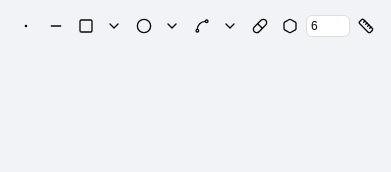
Test case: SketchToolGroups › rectangle split button › exposes the corner/center/3-point variants behind the family dropdown
Expected: the element "Center rectangle" is not shown
Click the button named "Rectangle variants".
click(114, 26)  # box [100, 12, 128, 40]
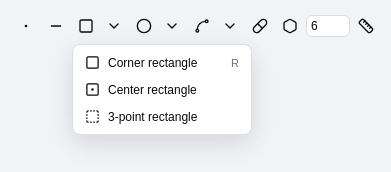
Expected: the menu item "Corner rectangle R" is shown, [77, 49, 247, 76]
Expected: the menu item "Center rectangle" is shown, [77, 76, 247, 103]
Expected: the menu item "3-point rectangle" is shown, [77, 103, 247, 130]
